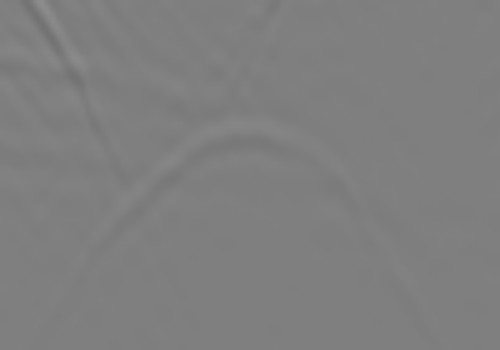hyperbola: (77, 111, 407, 295)
